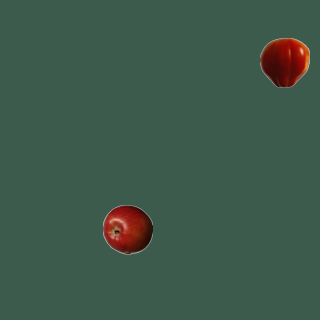Apple Braeburn: (102, 204, 152, 254)
Tomato 1: (259, 37, 309, 87)
